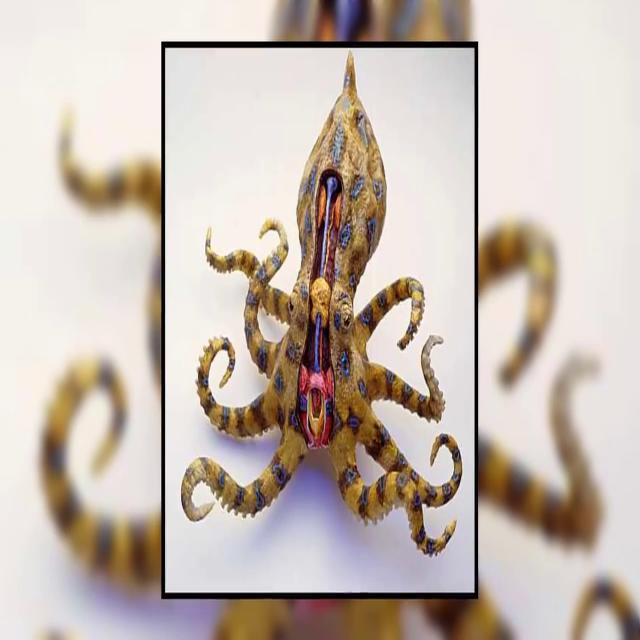octopus: (178, 48, 462, 562)
